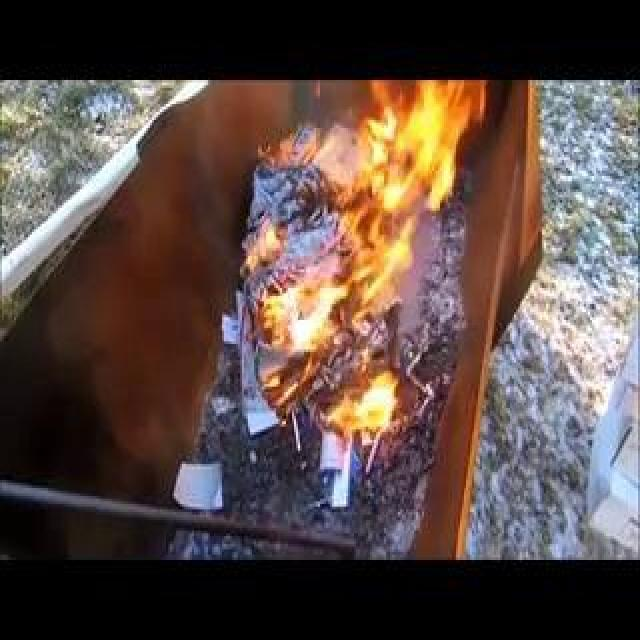Fire: (350, 83, 470, 262), (262, 262, 345, 358), (335, 380, 397, 440)
